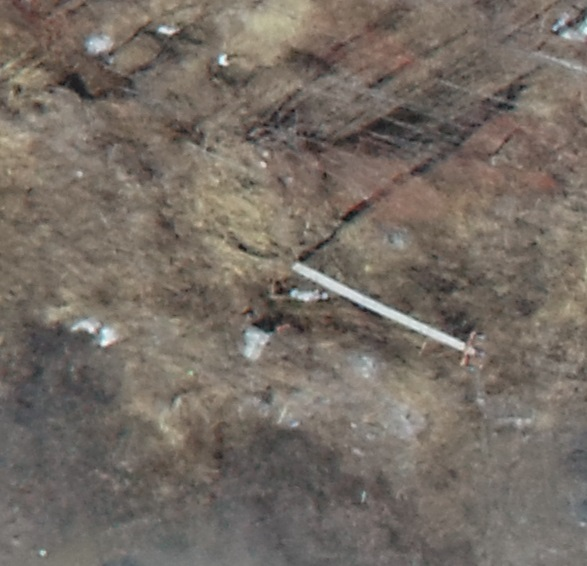opora: (290, 196, 486, 375)
